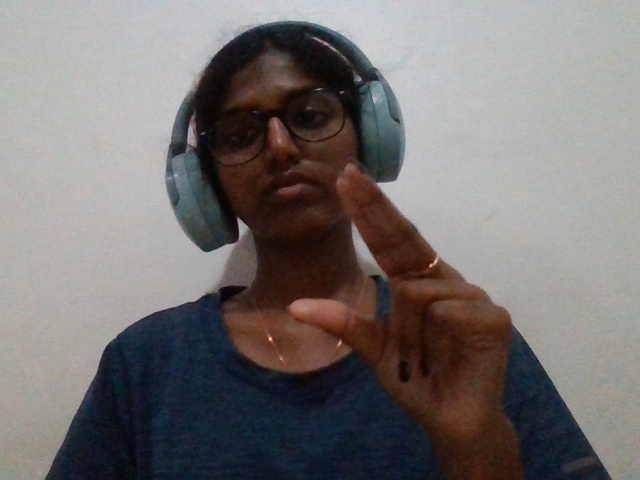No: (254, 146, 595, 459)
